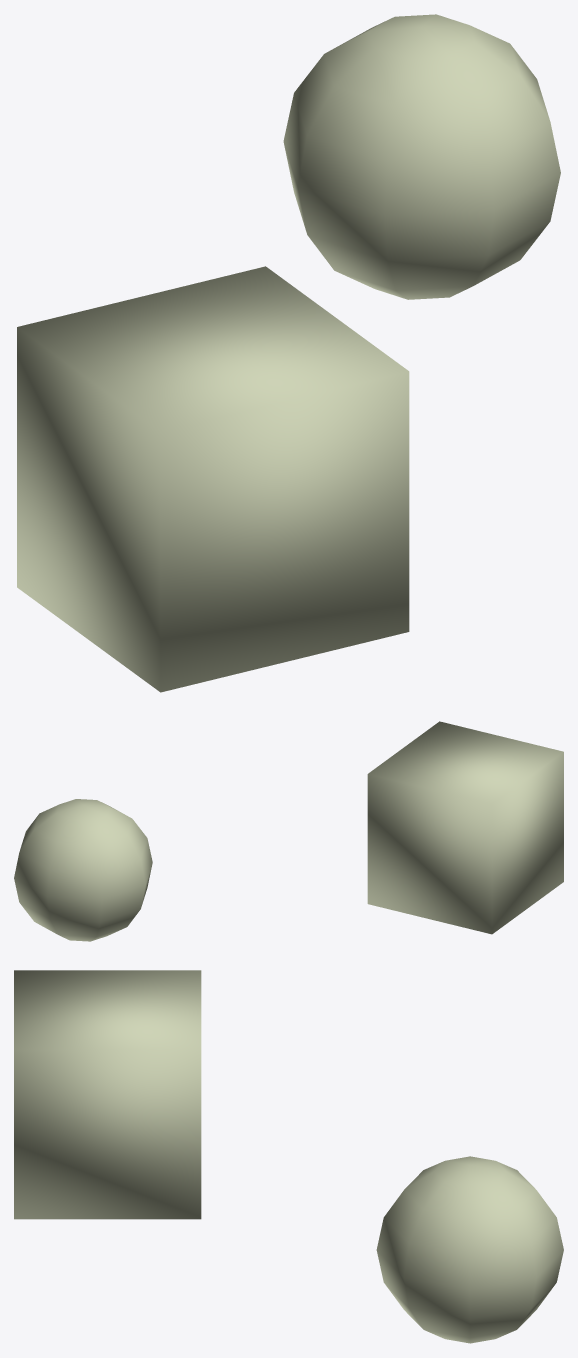
File: cube_and_sphere.obj
3 views of the same model, one above another, from view 1: azimuth 30°, elevation 25°; view 2: azimuth 150°, elevation 25°; view 3: azimuth 270°, elevation 25° (orthographic). The views are drawn at different scales.
Visible parts, largest first — view 1: Cube1, sphere2; view 2: Cube1, sphere2; view 3: Cube1, sphere2.
Boxes of the visible parts, <box> form: Cube1: <box>17,266,409,692</box>; sphere2: <box>283,14,560,299</box>; Cube1: <box>367,721,563,934</box>; sphere2: <box>14,799,152,941</box>; Cube1: <box>14,970,201,1219</box>; sphere2: <box>376,1156,563,1343</box>.
Size of the model in its own units: 5.91 by 2 by 5.87.
